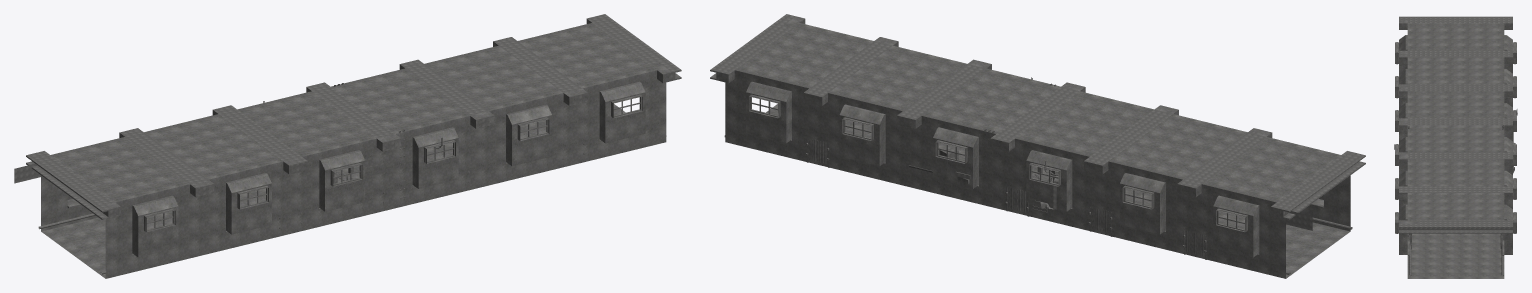
Rendered from interior environment blockout6.glb.
The picture shows the model from 3 angles, left to right: view 1: azimuth 30°, elevation 25°; view 2: azimuth 150°, elevation 25°; view 3: azimuth 270°, elevation 25°; orthographic projection. The views are drawn at different scales.
Parts seen in each view (by area): view 1: Plane_002, Cube_005; view 2: Plane_002, Cube_005, radiator_002; view 3: Plane_002, Cube_005, radiator_001, radiator_002.
Boxes of the visible parts, x1,y1,x2,y2 form: Plane_002: (41,20,671,278); Cube_005: (26,14,681,219); Plane_002: (719,16,1354,278); Cube_005: (710,14,1365,219); radiator_002: (724,135,1290,274); Plane_002: (1395,20,1516,278); Cube_005: (1399,16,1512,233); radiator_001: (1407,233,1411,276); radiator_002: (1500,233,1504,276).
Size of the model in its own units: 234 by 28.41 by 56.22.
Materials: 1 (1 with a texture image).
